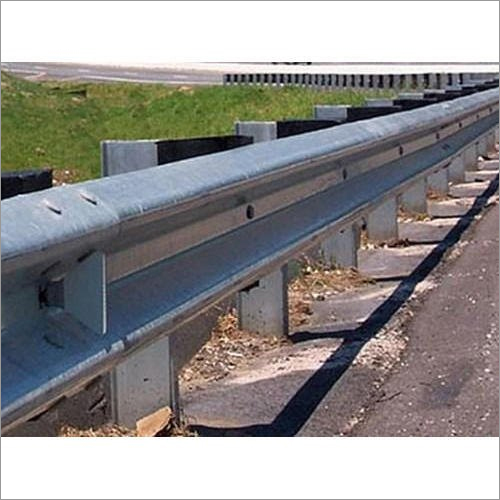not_damaged: (97, 62, 496, 312)
